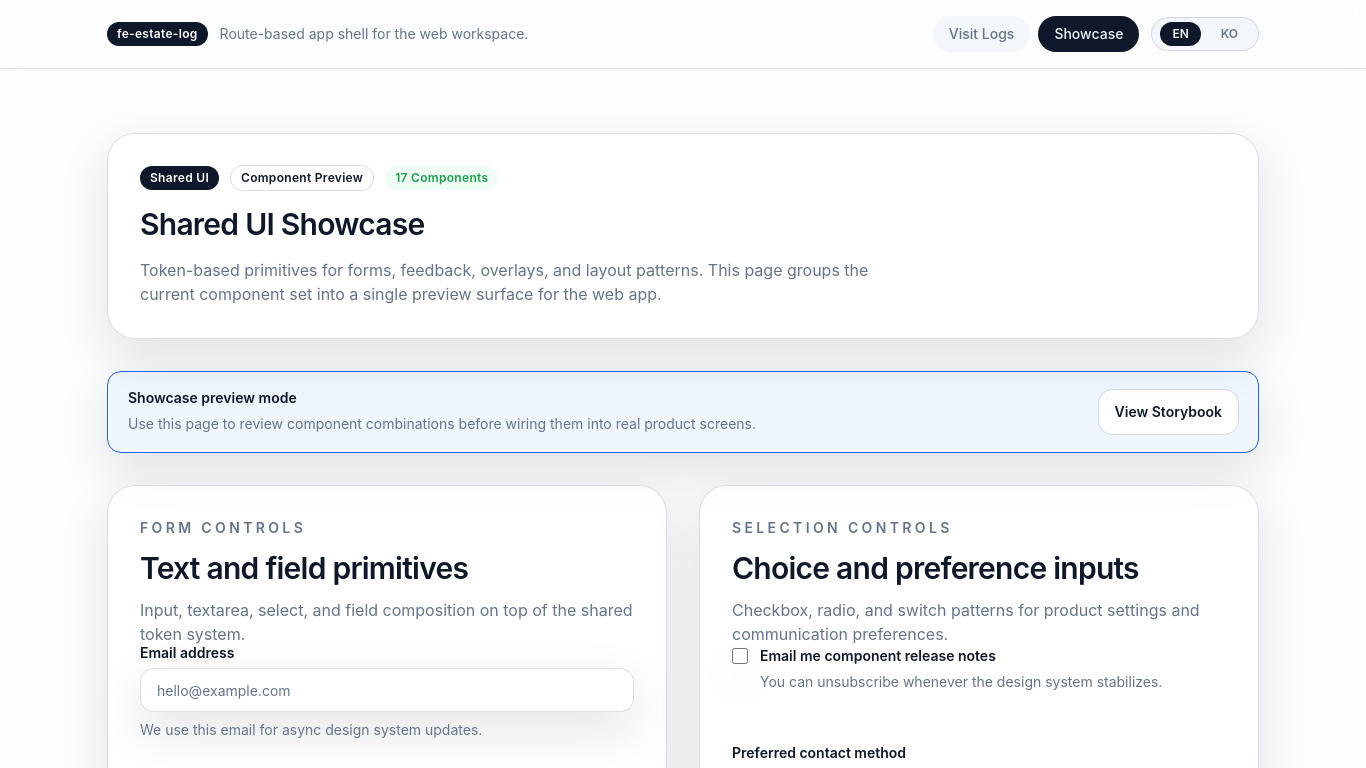
Test: App › switches the showcase page copy to Korean
Click the button "KO" at (1229, 34), box [1209,22,1250,46]
(page scrolled)
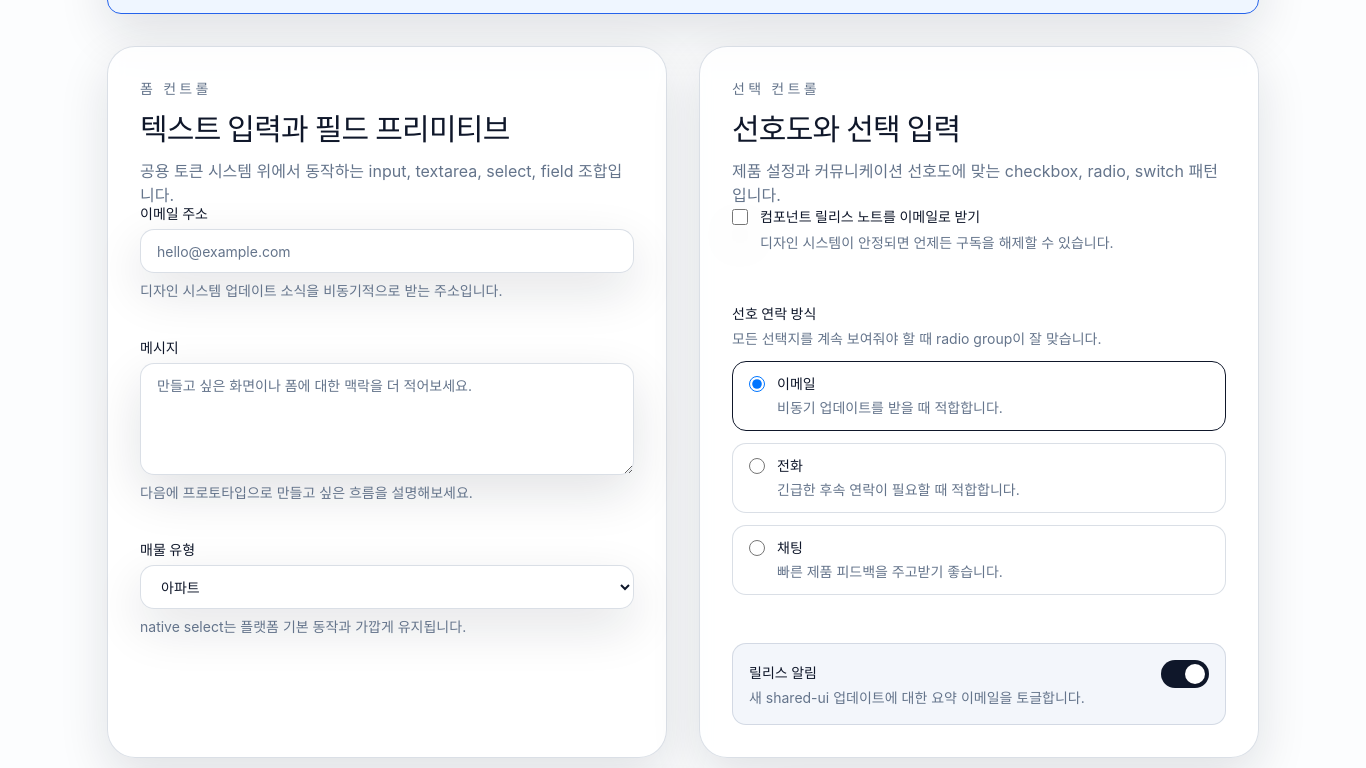
expect the text "이메일" is shown: met, box [777,375,816,392]
